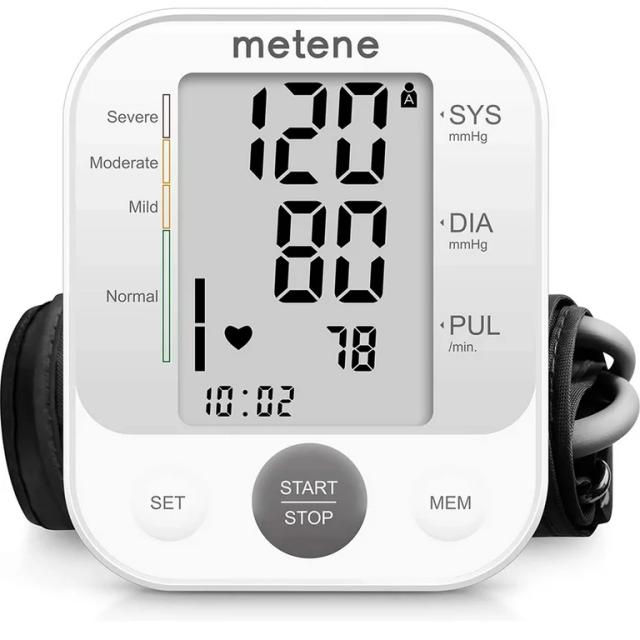dia: (257, 189, 399, 322)
pul: (317, 315, 392, 383)
ssd: (177, 70, 433, 423)
sys: (229, 74, 396, 191)
